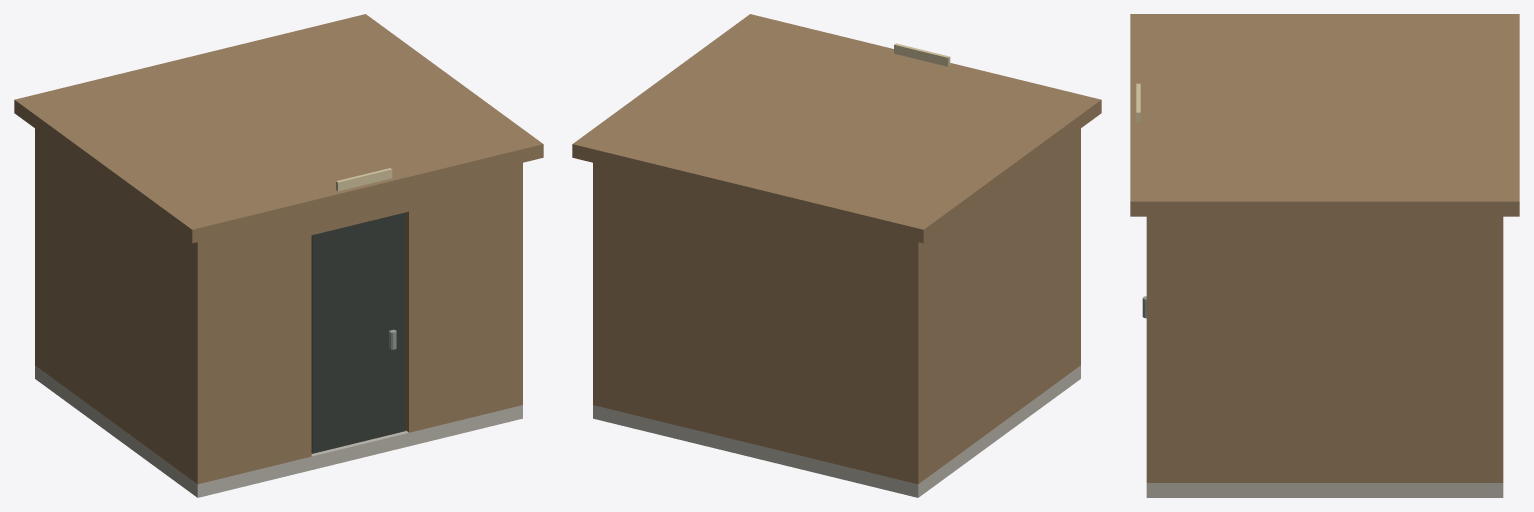
Rendered from zoo-and-safari-park-builder-toilet-block-b256d6ce__21500.glb.
3 views of the same model, side by side, from view 1: azimuth 30°, elevation 25°; view 2: azimuth 150°, elevation 25°; view 3: azimuth 270°, elevation 25° (orthographic). The views are drawn at different scales.
Visible parts, largest first — view 1: toilet-block; view 2: toilet-block; view 3: toilet-block.
Part boxes in pixels (left/top/right/bottom): toilet-block: left=14, top=14, right=543, bottom=497; toilet-block: left=572, top=14, right=1101, bottom=497; toilet-block: left=1130, top=14, right=1519, bottom=497.
Bounding box in the file's own units: 3.24 × 2.52 × 2.84.
